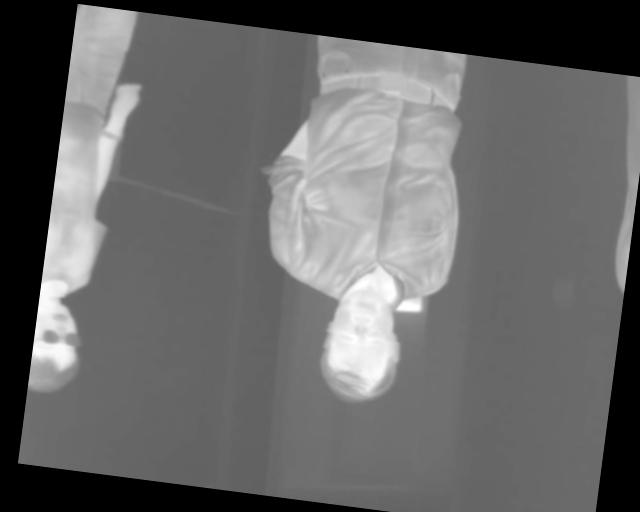face: (312, 280, 409, 409), (28, 300, 85, 397)
